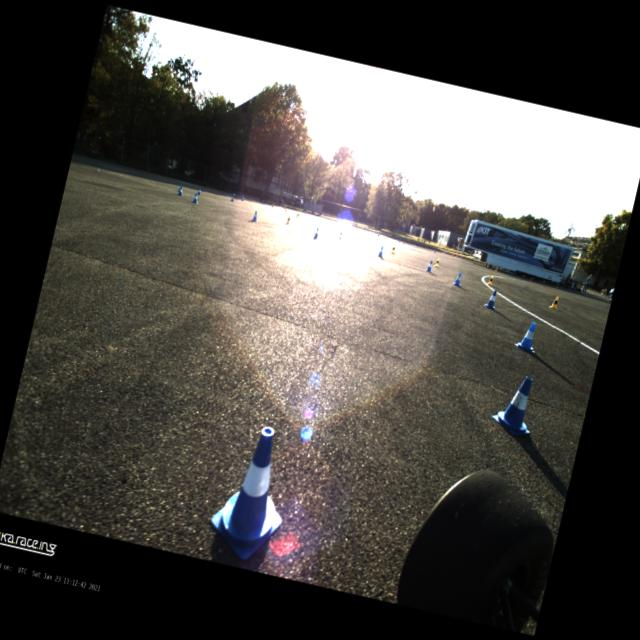blue_cone: (204, 418, 301, 564), (488, 370, 541, 438), (512, 319, 540, 353), (482, 288, 500, 310), (452, 271, 463, 286), (424, 259, 434, 272), (251, 210, 259, 222), (192, 192, 200, 204), (377, 244, 384, 256), (177, 186, 184, 196), (313, 227, 319, 238), (196, 187, 202, 194), (177, 184, 181, 192), (230, 195, 234, 201), (232, 192, 235, 197), (241, 196, 244, 201), (608, 297, 611, 302), (262, 199, 264, 203), (398, 238, 400, 242), (434, 248, 436, 252), (472, 260, 474, 264), (510, 271, 512, 275), (542, 280, 544, 284), (580, 290, 582, 294), (242, 195, 244, 198), (304, 212, 306, 214)
yellow_cone: (549, 296, 559, 308), (486, 274, 494, 285), (434, 257, 441, 267), (390, 244, 396, 253), (285, 214, 290, 224), (338, 230, 342, 238), (494, 266, 498, 272), (270, 203, 274, 208), (554, 284, 558, 288), (584, 292, 588, 296), (451, 253, 454, 258), (296, 212, 298, 218), (529, 276, 532, 280), (284, 208, 286, 213), (402, 240, 404, 245), (297, 212, 299, 216), (354, 226, 356, 230), (377, 233, 379, 237), (304, 210, 306, 213), (325, 217, 327, 220)
